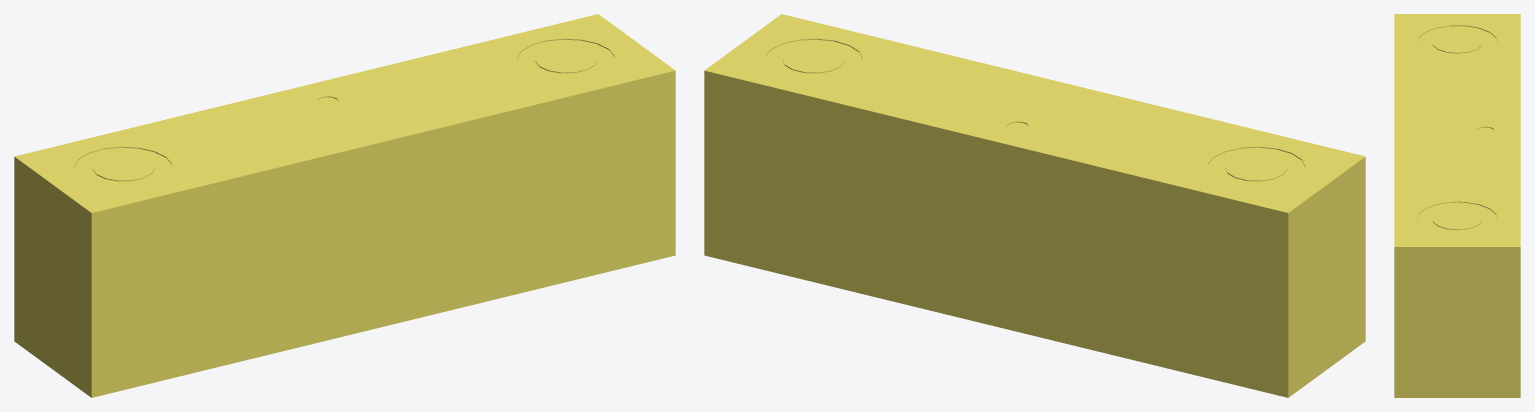
File: camera.dae
The picture shows the model from 3 angles, left to right: view 1: azimuth 30°, elevation 25°; view 2: azimuth 150°, elevation 25°; view 3: azimuth 270°, elevation 25°; orthographic projection. The views are drawn at different scales.
Visible parts, largest first — view 1: Mesh; view 2: Mesh; view 3: Mesh.
Part boxes in pixels (x1,y1,x2,y2): Mesh: [14, 14, 675, 397]; Mesh: [704, 14, 1365, 397]; Mesh: [1394, 14, 1520, 397].
Size of the model in its own units: 0.157 by 0.036 by 0.0475.
